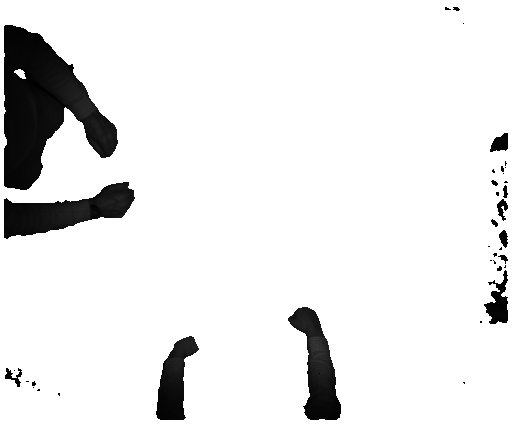fist: (100, 176, 135, 223), (86, 116, 119, 159), (288, 304, 327, 336), (164, 336, 199, 360)
